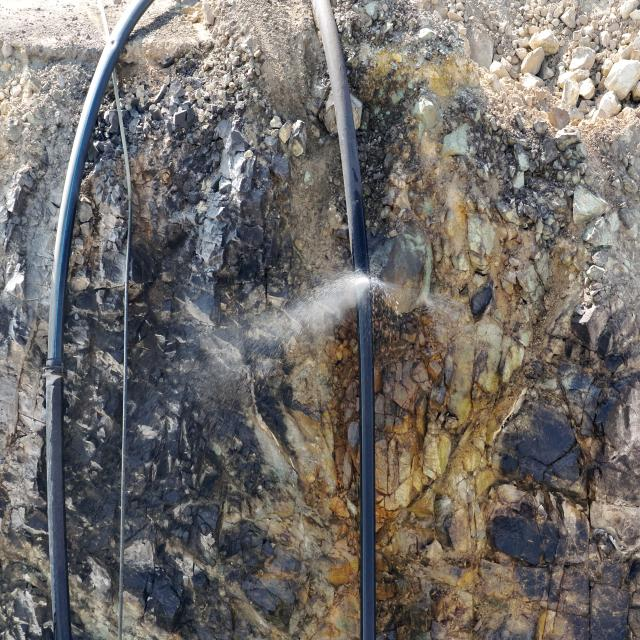leak: (177, 261, 408, 423)
